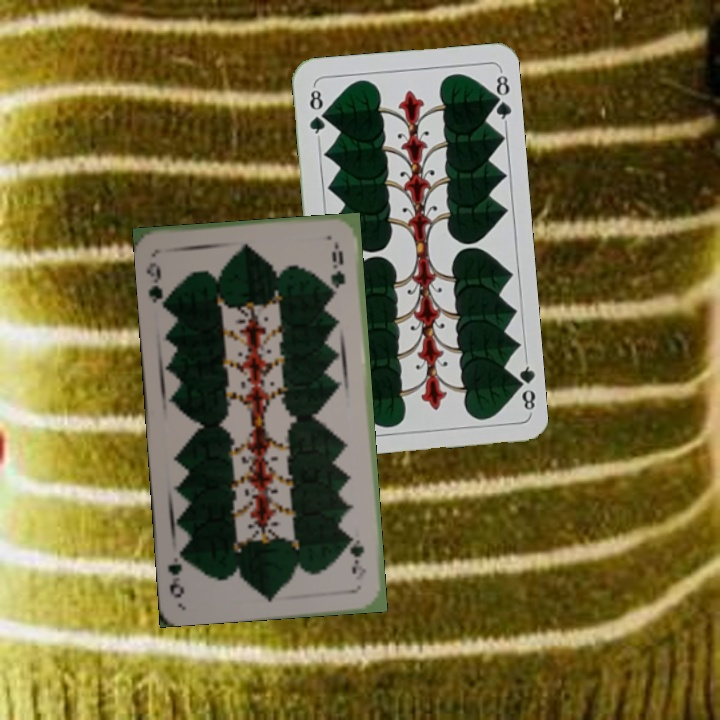G8: (509, 356, 538, 415), (305, 82, 329, 142)
G9: (142, 258, 171, 310), (347, 533, 367, 576)
